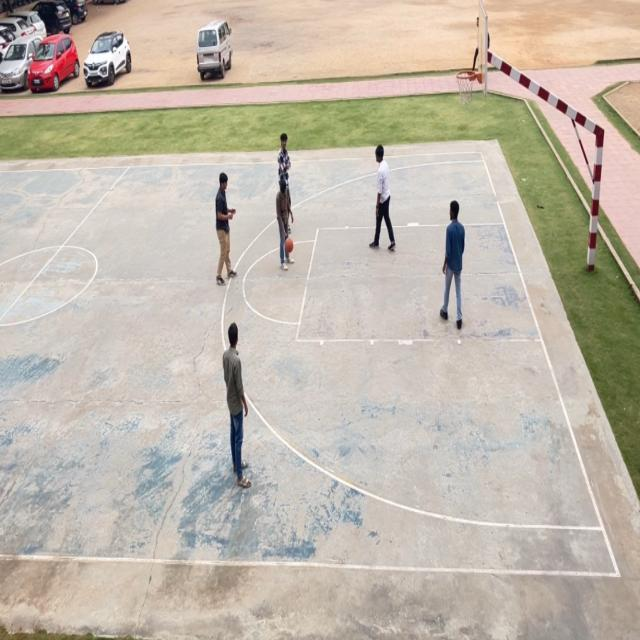basketball: (284, 234, 294, 258)
hoop: (454, 67, 476, 106)
